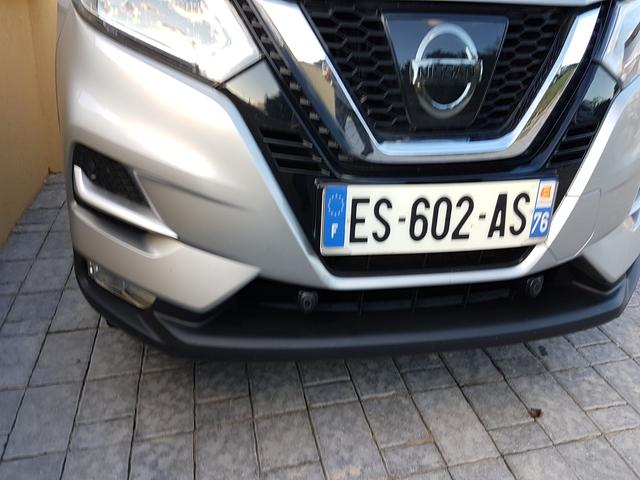Quashqai: (291, 145, 590, 277)
